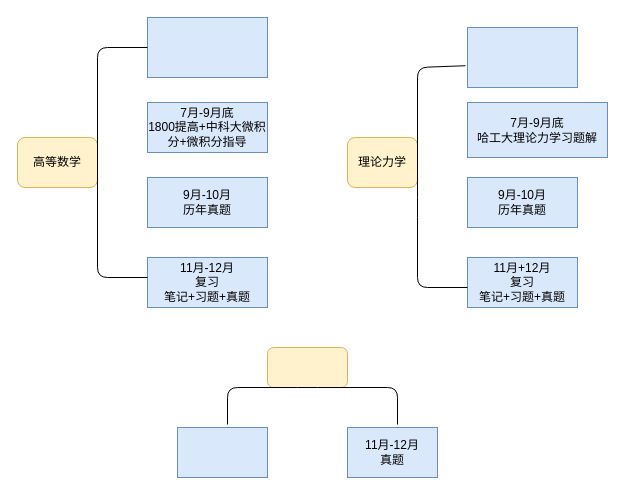
Some shapes in this 625 by 495 pixel diagram are drawn without their labels. Here are the shapes that lost their labels. From the top down, the centre of each, then its label:
At pixel 207 47: "——6月底 汤家凤强化视频 +1800基础".
At pixel 522 57: "——6月底 理论力学解题精粹".
At pixel 307 367: "英语".
At pixel 222 452: "——10月底 单词".
